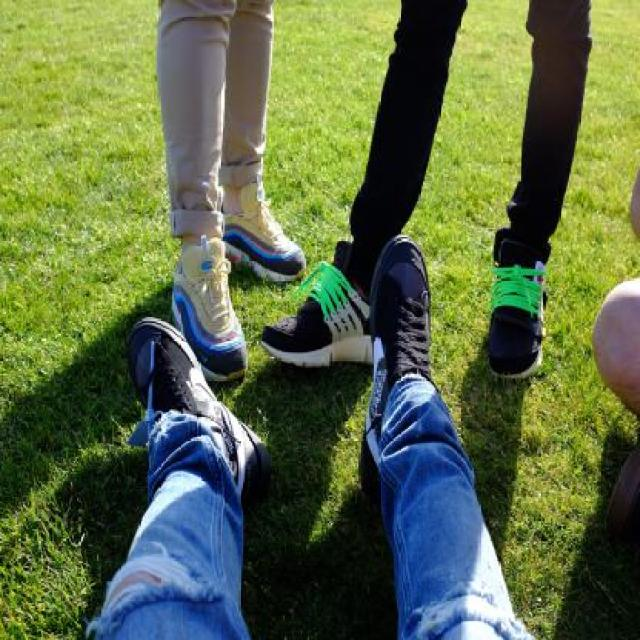shoe: (118, 319, 270, 495), (358, 230, 449, 484), (259, 239, 373, 367), (167, 240, 250, 380), (486, 225, 552, 382), (223, 182, 308, 282)
